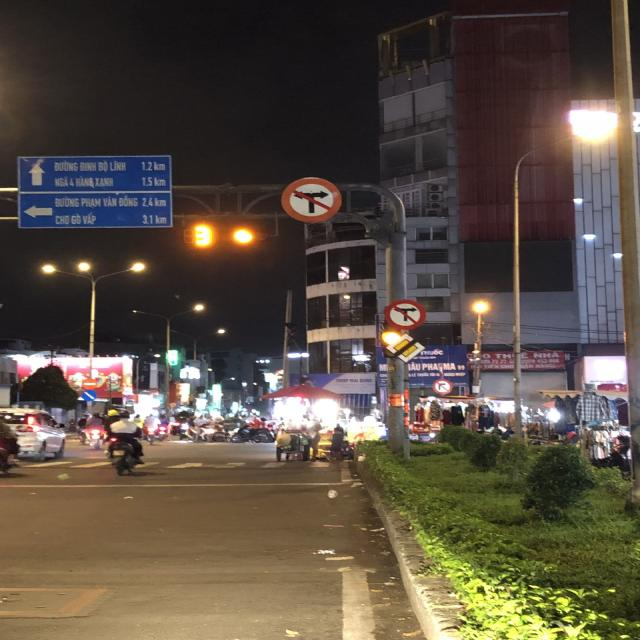Bien bao cam re phai: (430, 376, 454, 396)
